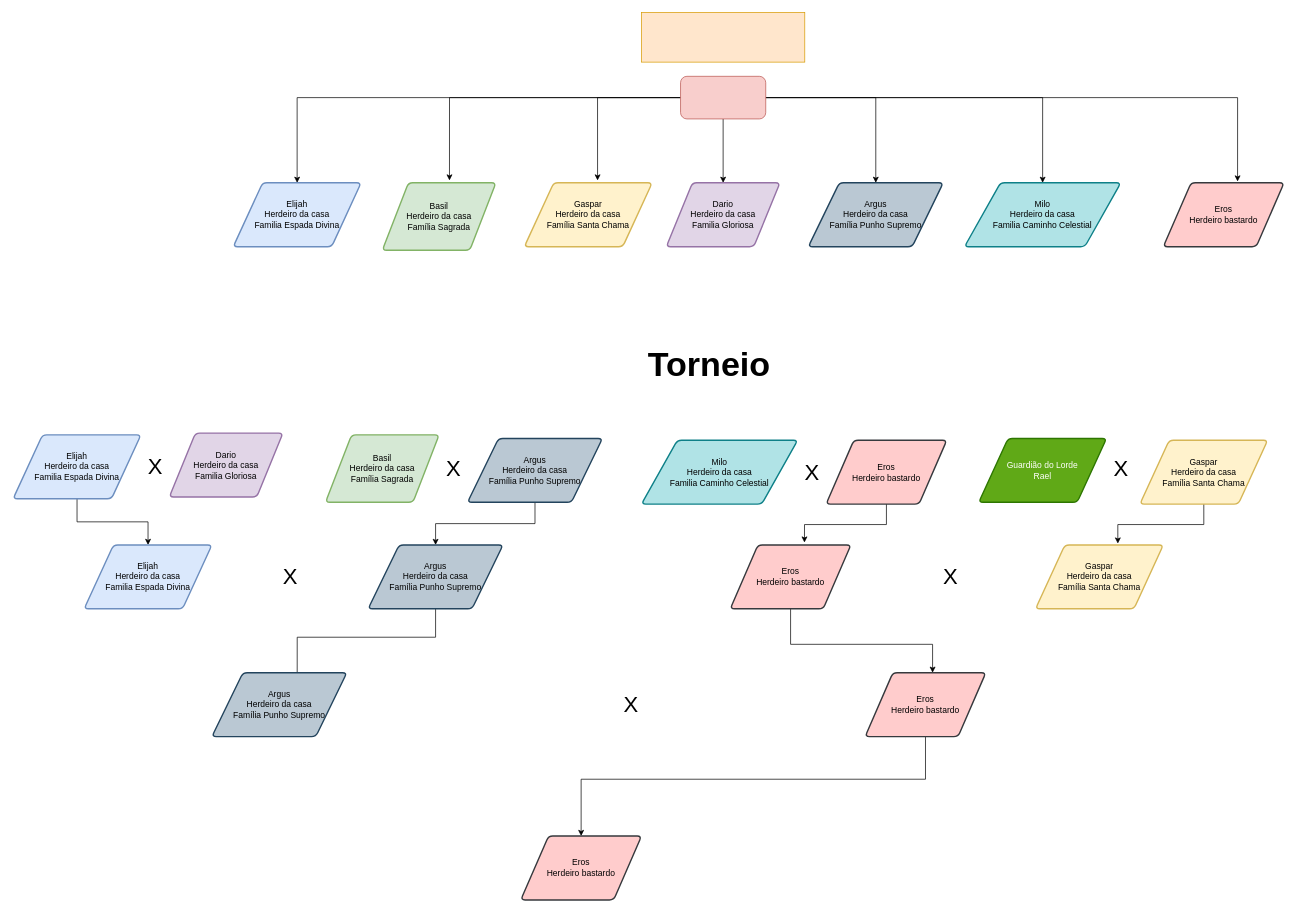
The diagram is 1296 pixels wide and 913 high, and some of its shapes have lost their labels. Here are the shapes that lost their labels. From the top down, the box of each, then its label:
(641, 12, 805, 62): Herdeiros
(680, 76, 766, 119): Lorde Imperador Celeste
